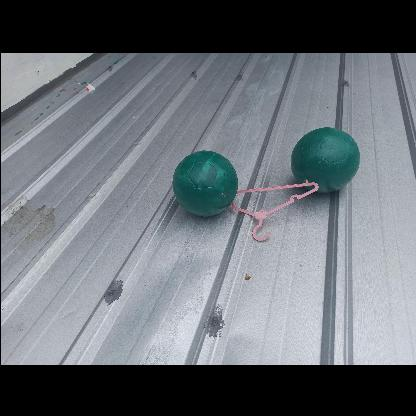green_ball: (291, 124, 361, 194), (170, 148, 238, 216)
